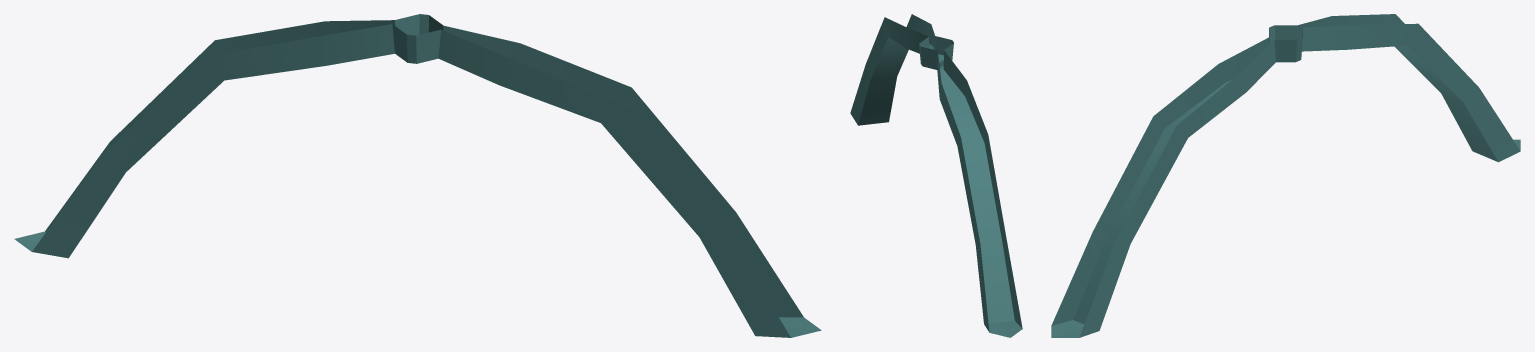
Rendered from OpenTop_Diagonal.fbx.
The picture shows the model from 3 angles, left to right: view 1: azimuth 30°, elevation 25°; view 2: azimuth 150°, elevation 25°; view 3: azimuth 270°, elevation 25°; orthographic projection. The views are drawn at different scales.
Visible parts, largest first — view 1: OpenTop_Diagonal; view 2: OpenTop_Diagonal; view 3: OpenTop_Diagonal.
Boxes of the visible parts, box(x1,y1,x2,y2) form: OpenTop_Diagonal: box(14, 14, 821, 337); OpenTop_Diagonal: box(850, 14, 1022, 337); OpenTop_Diagonal: box(1051, 14, 1520, 337).
Size of the model in its own units: 400 by 196 by 400.
